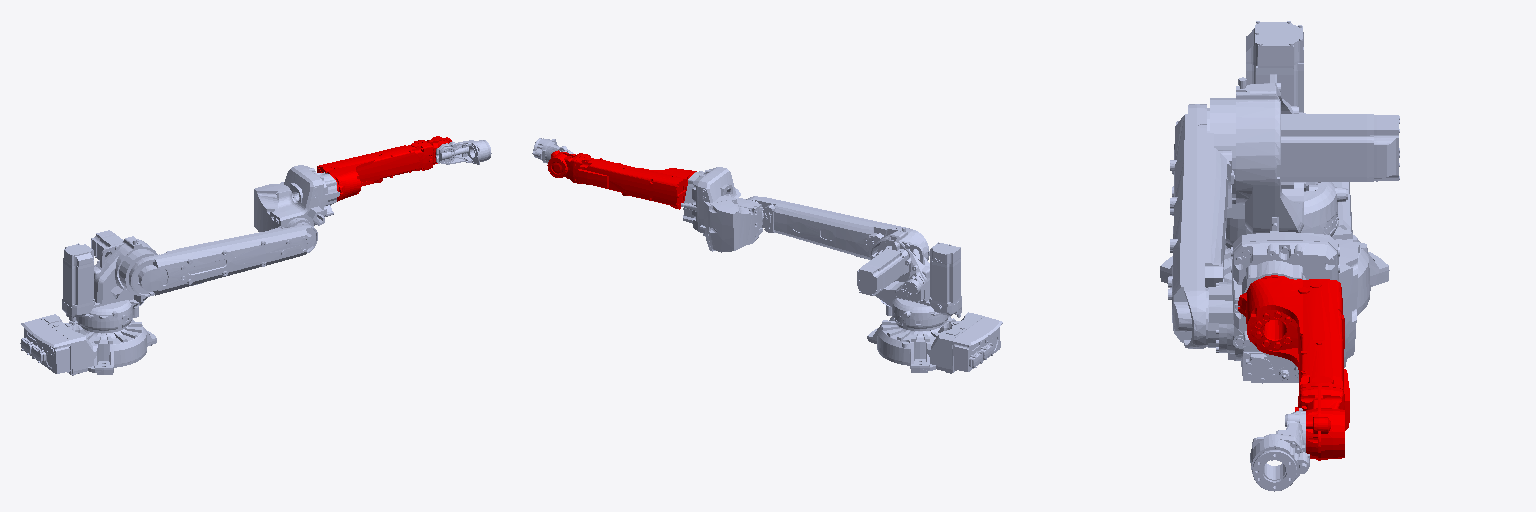
robot.urdf — welding_robot:
<?xml version="1.0" ?>
<!-- =================================================================================== -->
<!-- |    This document was autogenerated by xacro from welding_robot.urdf.xacro       | -->
<!-- |    EDITING THIS FILE BY HAND IS NOT RECOMMENDED                                 | -->
<!-- =================================================================================== -->
<robot name="welding_robot">
  <gazebo reference="world">
    <static>true</static>
  </gazebo>
  <gazebo reference="base_link">
    <material>
            Gazebo/Orange
        </material>
  </gazebo>
  <gazebo reference="link1">
    <material>
            Gazebo/Orange
        </material>
  </gazebo>
  <gazebo reference="link2">
    <material>
            Gazebo/Orange
        </material>
  </gazebo>
  <gazebo reference="link3">
    <material>
            Gazebo/Orange
        </material>
  </gazebo>
  <gazebo reference="link4">
    <material>
            Gazebo/Orange
        </material>
  </gazebo>
  <gazebo reference="link5">
    <material>
            Gazebo/Orange
        </material>
  </gazebo>
  <gazebo reference="eef">
    <material>
            Gazebo/Red
        </material>
  </gazebo>
  <link name="world"/>
  <link name="base_link">
    <inertial>
      <origin rpy="0 0 0" xyz="-0.0929937292504419 0.000399767609570289 0.0959021779308826"/>
      <mass value="31.9091200007545"/>
      <inertia ixx="0.421447222495448" ixy="0.0037819462335109" ixz="0.0229893954678047" iyy="0.869675903019841" iyz="0.000278861587942182" izz="1.09695200484203"/>
    </inertial>
    <visual>
      <origin rpy="0 0 0" xyz="0 0 0"/>
      <geometry>
        <mesh filename="package://welding_robot_description/meshes/base_link.STL"/>
      </geometry>
      <material name="">
        <color rgba="0.792156862745098 0.819607843137255 0.933333333333333 1"/>
      </material>
    </visual>
    <collision>
      <origin rpy="0 0 0" xyz="0 0 0"/>
      <geometry>
        <mesh filename="package://welding_robot_description/meshes/base_link.STL"/>
      </geometry>
    </collision>
  </link>
  <joint name="world_to_base" type="fixed">
    <parent link="world"/>
    <child link="base_link"/>
  </joint>
  <link name="link1">
    <inertial>
      <origin rpy="0 0 0" xyz="0.0430085938702163 0.00696417924685074 0.159697721120496"/>
      <mass value="23.921353395102"/>
      <inertia ixx="0.395236282597606" ixy="-0.00940048082513979" ixz="-0.041470347217743" iyy="0.604734124936167" iyz="-0.00587838591642869" izz="0.572670389108296"/>
    </inertial>
    <visual>
      <origin rpy="0 0 0" xyz="0 0 0"/>
      <geometry>
        <mesh filename="package://welding_robot_description/meshes/link1.STL"/>
      </geometry>
      <material name="">
        <color rgba="0.792156862745098 0.819607843137255 0.933333333333333 1"/>
      </material>
    </visual>
    <collision>
      <origin rpy="0 0 0" xyz="0 0 0"/>
      <geometry>
        <mesh filename="package://welding_robot_description/meshes/link1.STL"/>
      </geometry>
    </collision>
  </link>
  <joint name="joint1" type="revolute">
    <origin rpy="0 0 0" xyz="0 0 0.23"/>
    <parent link="base_link"/>
    <child link="link1"/>
    <axis xyz="0 0 1"/>
    <limit effort="0" lower="-3.141592653589793" upper="3.141592653589793" velocity="0"/>
  </joint>
  <link name="link2">
    <inertial>
      <origin rpy="0 0 0" xyz="0.413903893302138 6.01572906893666E-05 -0.032046741090647"/>
      <mass value="15.7551993052296"/>
      <inertia ixx="0.0483159174035791" ixy="0.000255145389541365" ixz="0.00589226848669825" iyy="1.10406779987279" iyz="5.18849425289219E-07" izz="1.12343882886802"/>
    </inertial>
    <visual>
      <origin rpy="0 0 0" xyz="0 0 0"/>
      <geometry>
        <mesh filename="package://welding_robot_description/meshes/link2.STL"/>
      </geometry>
      <material name="">
        <color rgba="0.792156862745098 0.819607843137255 0.933333333333333 1"/>
      </material>
    </visual>
    <collision>
      <origin rpy="0 0 0" xyz="0 0 0"/>
      <geometry>
        <mesh filename="package://welding_robot_description/meshes/link2.STL"/>
      </geometry>
    </collision>
  </link>
  <joint name="joint2" type="revolute">
    <origin rpy="-1.5708 0 0" xyz="0.15 -0.1404 0.215"/>
    <parent link="link1"/>
    <child link="link2"/>
    <axis xyz="0 0 1"/>
    <limit effort="0" lower="-3.2288591161895095" upper="1.1344640137963142" velocity="0"/>
  </joint>
  <link name="link3">
    <inertial>
      <origin rpy="0 0 0" xyz="0.057084345693889 -0.0544677374605202 0.179683311866053"/>
      <mass value="20.2703440803898"/>
      <inertia ixx="0.272489784342283" ixy="0.0614344615798052" ixz="0.00781250522080438" iyy="0.273164414136875" iyz="0.00718708687882421" izz="0.293444701233596"/>
    </inertial>
    <visual>
      <origin rpy="0 0 0" xyz="0 0 0"/>
      <geometry>
        <mesh filename="package://welding_robot_description/meshes/link3.STL"/>
      </geometry>
      <material name="">
        <color rgba="0.792156862745098 0.819607843137255 0.933333333333333 1"/>
      </material>
    </visual>
    <collision>
      <origin rpy="0 0 0" xyz="0 0 0"/>
      <geometry>
        <mesh filename="package://welding_robot_description/meshes/link3.STL"/>
      </geometry>
    </collision>
  </link>
  <joint name="joint3" type="revolute">
    <origin rpy="0 0 0" xyz="0.9 0 -0.0096"/>
    <parent link="link2"/>
    <child link="link3"/>
    <axis xyz="0 0 1"/>
    <limit effort="0" lower="-1.3089969389957472" upper="3.141592653589793" velocity="0"/>
  </joint>
  <link name="link4">
    <inertial>
      <origin rpy="0 0 0" xyz="-0.00187110793536971 -0.0873002349060387 0.31439194690357"/>
      <mass value="10.5450027654616"/>
      <inertia ixx="0.535192042412382" ixy="-0.000326158571932255" ixz="-0.00186684954565243" iyy="0.522699640515615" iyz="0.0528815415766676" izz="0.039628953125396"/>
    </inertial>
    <visual>
      <origin rpy="0 0 0" xyz="0 0 0"/>
      <geometry>
        <mesh filename="package://welding_robot_description/meshes/link4.STL"/>
      </geometry>
      <material name="">
        <color rgba="0.996078431372549 0 0 1"/>
      </material>
    </visual>
    <collision>
      <origin rpy="0 0 0" xyz="0 0 0"/>
      <geometry>
        <mesh filename="package://welding_robot_description/meshes/link4.STL"/>
      </geometry>
    </collision>
  </link>
  <joint name="joint4" type="revolute">
    <origin rpy="-1.5708 0 -1.5708" xyz="0.238 -0.15 0.15"/>
    <parent link="link3"/>
    <child link="link4"/>
    <axis xyz="0 0 1"/>
    <limit effort="0" lower="-3.0543261909900767" upper="3.0543261909900767" velocity="0"/>
  </joint>
  <link name="link5">
    <inertial>
      <origin rpy="0 0 0" xyz="0.092716433094624 -0.000702054822862452 -0.0523232778676363"/>
      <mass value="1.0432151948745"/>
      <inertia ixx="0.00207881906865029" ixy="-4.33682930942942E-05" ixz="0.00144478504813504" iyy="0.00603242280484296" iyz="6.40267757266068E-06" izz="0.0056992330657813"/>
    </inertial>
    <visual>
      <origin rpy="0 0 0" xyz="0 0 0"/>
      <geometry>
        <mesh filename="package://welding_robot_description/meshes/link5.STL"/>
      </geometry>
      <material name="">
        <color rgba="0.792156862745098 0.819607843137255 0.933333333333333 1"/>
      </material>
    </visual>
    <collision>
      <origin rpy="0 0 0" xyz="0 0 0"/>
      <geometry>
        <mesh filename="package://welding_robot_description/meshes/link5.STL"/>
      </geometry>
    </collision>
  </link>
  <joint name="joint5" type="revolute">
    <origin rpy="1.5708 -1.5708 0" xyz="0 -0.079997 0.69999"/>
    <parent link="link4"/>
    <child link="link5"/>
    <axis xyz="0 0 1"/>
    <limit effort="0" lower="-2.0943951023931953" upper="2.0943951023931953" velocity="0"/>
  </joint>
  <link name="eef">
    <inertial>
      <origin rpy="0 0 0" xyz="-0.00020055909938177 -0.000418068522453875 -0.00792381512597196"/>
      <mass value="0.0766980852773654"/>
      <inertia ixx="6.51413284307492E-05" ixy="2.55706386709703E-07" ixz="6.05040605765171E-09" iyy="6.57472395509658E-05" iyz="4.55172837887951E-08" izz="0.000127107365112355"/>
    </inertial>
    <visual>
      <origin rpy="0 0 0" xyz="0 0 0"/>
      <geometry>
        <mesh filename="package://welding_robot_description/meshes/eef.STL"/>
      </geometry>
      <material name="">
        <color rgba="0.792156862745098 0.819607843137255 0.933333333333333 1"/>
      </material>
    </visual>
    <collision>
      <origin rpy="0 0 0" xyz="0 0 0"/>
      <geometry>
        <mesh filename="package://welding_robot_description/meshes/eef.STL"/>
      </geometry>
    </collision>
  </link>
  <joint name="joint6" type="revolute">
    <origin rpy="-1.5708 0 -1.5708" xyz="0.19901 0 -0.08"/>
    <parent link="link5"/>
    <child link="eef"/>
    <axis xyz="0 0 1"/>
    <limit effort="0" lower="-6.981317007977318" upper="6.981317007977318" velocity="0"/>
  </joint>
  <!-- <xacro:include
        filename="$(find welding_robot_description)/ros2_control/welding_robot.ros2_control.xacro" /> -->
</robot>

--- Render facts (derived) ---
3 views of the same robot in one strip: view 1: azimuth 30°, elevation 25°; view 2: azimuth 150°, elevation 25°; view 3: azimuth 270°, elevation 25° (orthographic).
Robot: welding_robot — 8 links, 7 joints (6 revolute, 1 fixed); root link world; default pose: every joint at zero.
Links seen in each view (by area): view 1: link2, link1, base_link, link3, link4, link5; view 2: link1, base_link, link3, link2, link4; view 3: link1, link4, link2, link3, base_link, link5, eef.
Boxes of the visible links, x1,y1,x2,y2 form: link2: (129, 224, 317, 296); link1: (62, 230, 157, 330); base_link: (20, 314, 156, 375); link3: (254, 165, 339, 231); link4: (317, 136, 451, 201); link5: (436, 140, 488, 164); link1: (857, 227, 961, 328); base_link: (867, 312, 1002, 373); link3: (681, 167, 763, 252); link2: (746, 196, 929, 259); link4: (547, 150, 696, 209); link1: (1210, 21, 1399, 245); link4: (1238, 275, 1349, 460); link2: (1168, 104, 1234, 348); link3: (1208, 232, 1357, 383); base_link: (1160, 182, 1389, 315); link5: (1250, 408, 1309, 480); eef: (1252, 450, 1296, 491).
Size in the robot's own frame: 2.59 by 0.5381 by 0.7 metres.
Meshes: 7 distinct files referenced, 7 mesh visuals loaded (7 binary STL).